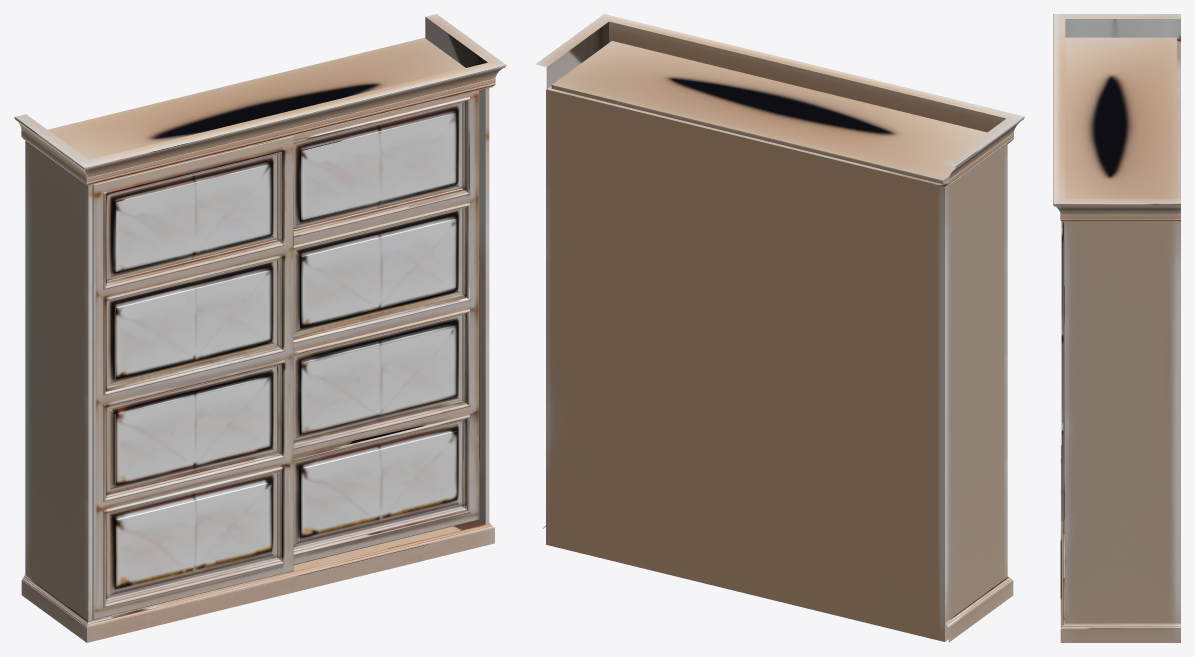
Rendered from edited_mesh.glb.
3 renders of one model, left to right at view 1: azimuth 30°, elevation 25°; view 2: azimuth 150°, elevation 25°; view 3: azimuth 270°, elevation 25°, orthographic. The views are drawn at different scales.
Parts seen in each view (by area): view 1: normalized_model.obj; view 2: normalized_model.obj; view 3: normalized_model.obj.
Boxes of the visible parts, bbox=[...] form: normalized_model.obj: bbox=[14, 14, 506, 642]; normalized_model.obj: bbox=[535, 14, 1024, 642]; normalized_model.obj: bbox=[1053, 14, 1180, 642].
Size of the model in its own units: 1.26 by 1.37 by 0.359.
Materials: 1 (1 with a texture image).
